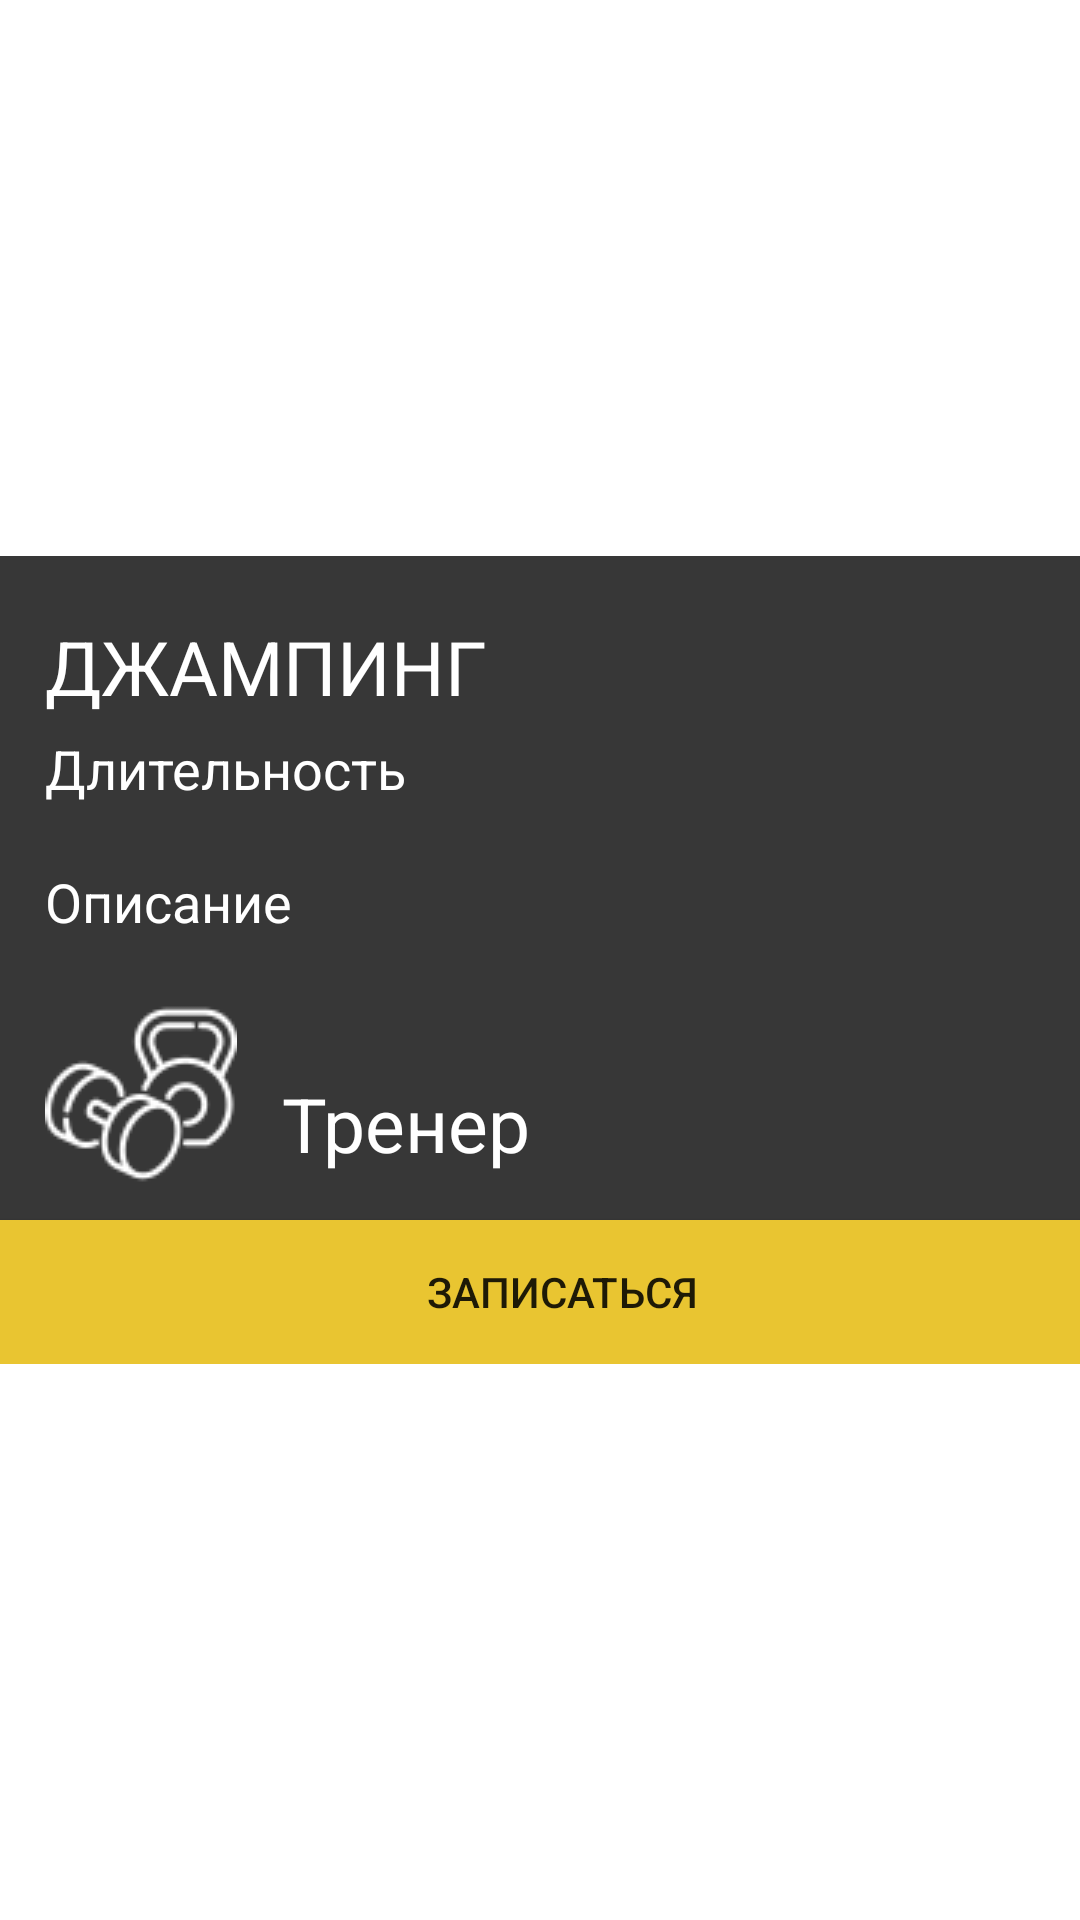

Icons on this 1080*1920 Android screen, each with the point to tap as point (x, y):
weights: point (141, 1094)
